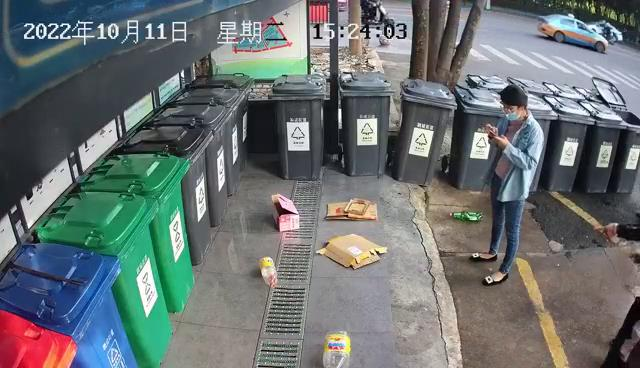suliaozhipin: (320, 329, 352, 368), (257, 254, 279, 289), (447, 208, 485, 223)
worker: (468, 83, 546, 287)
zhizhipin: (313, 232, 389, 270), (324, 195, 380, 222), (270, 191, 301, 232)
